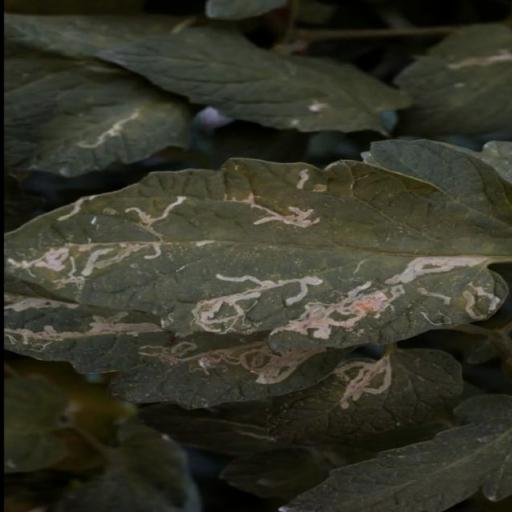disease_tomato: (2, 158, 512, 342), (2, 262, 344, 412), (267, 350, 464, 446)
